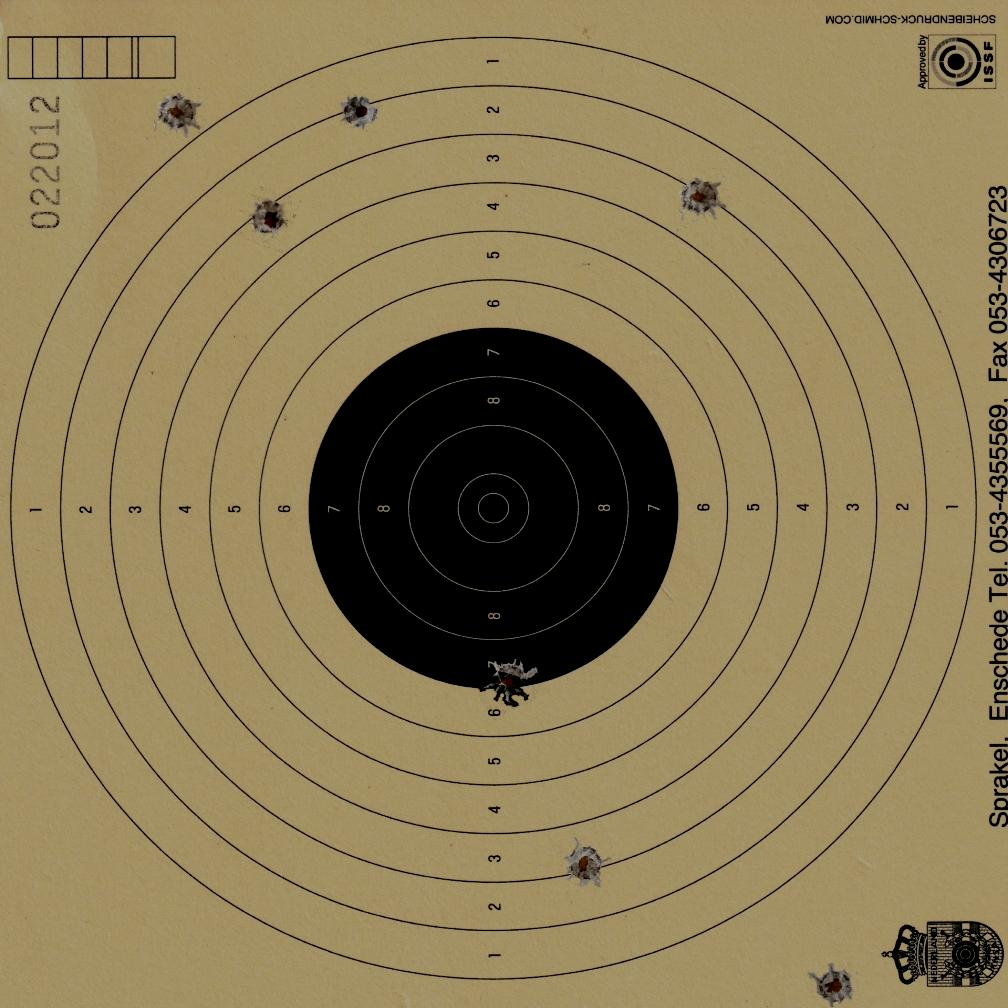0: (151, 88, 205, 139), (802, 961, 860, 1006)
2: (338, 92, 382, 130)
3: (672, 175, 728, 225), (559, 836, 612, 888), (247, 194, 293, 240)
7: (477, 658, 541, 709)
Target: (10, 30, 984, 983)
black_contour: (306, 325, 679, 691)
